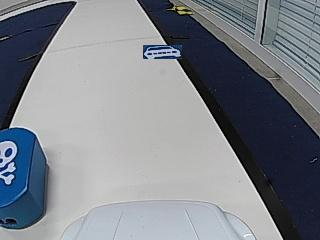danger: (1, 139, 18, 186)
